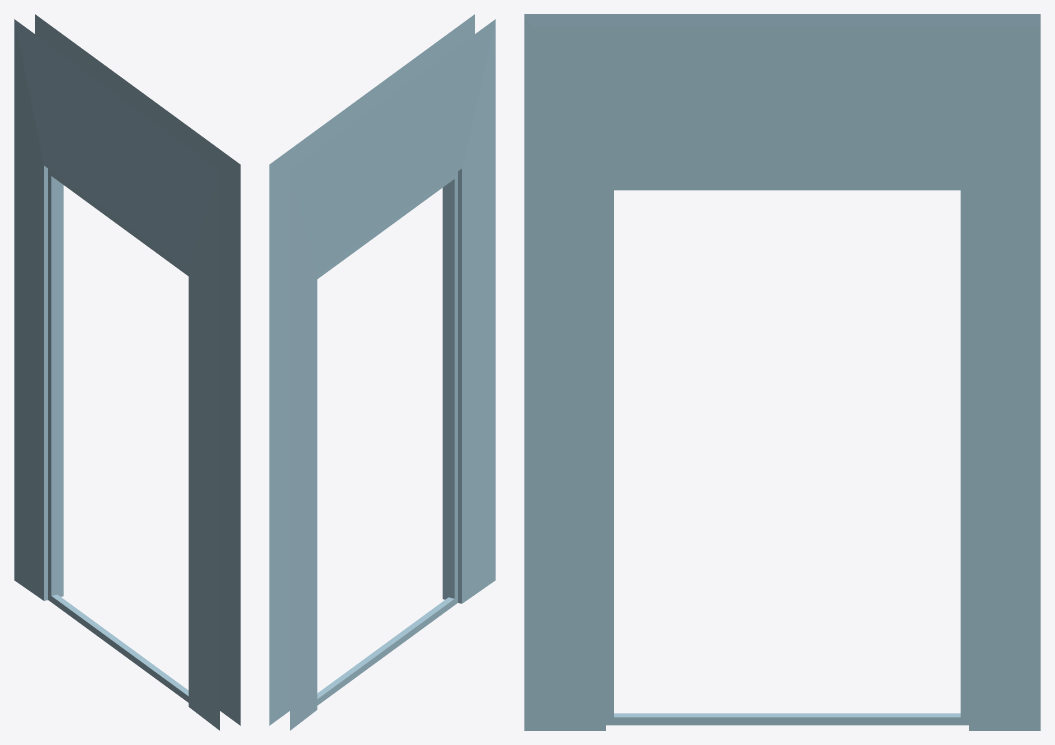
Rendered from kor_arch.glb.
3 views of the same model, side by side, from view 1: azimuth 30°, elevation 25°; view 2: azimuth 150°, elevation 25°; view 3: azimuth 270°, elevation 25° (orthographic). The views are drawn at different scales.
Parts seen in each view (by area): view 1: wall_windows.001; view 2: wall_windows.001; view 3: wall_windows.001.
Boxes of the visible parts, <box> form: wall_windows.001: <box>14,14,240,730</box>; wall_windows.001: <box>269,14,495,730</box>; wall_windows.001: <box>524,14,1040,730</box>.
Size of the model in its own units: 0.1155 by 3.01 by 2.
